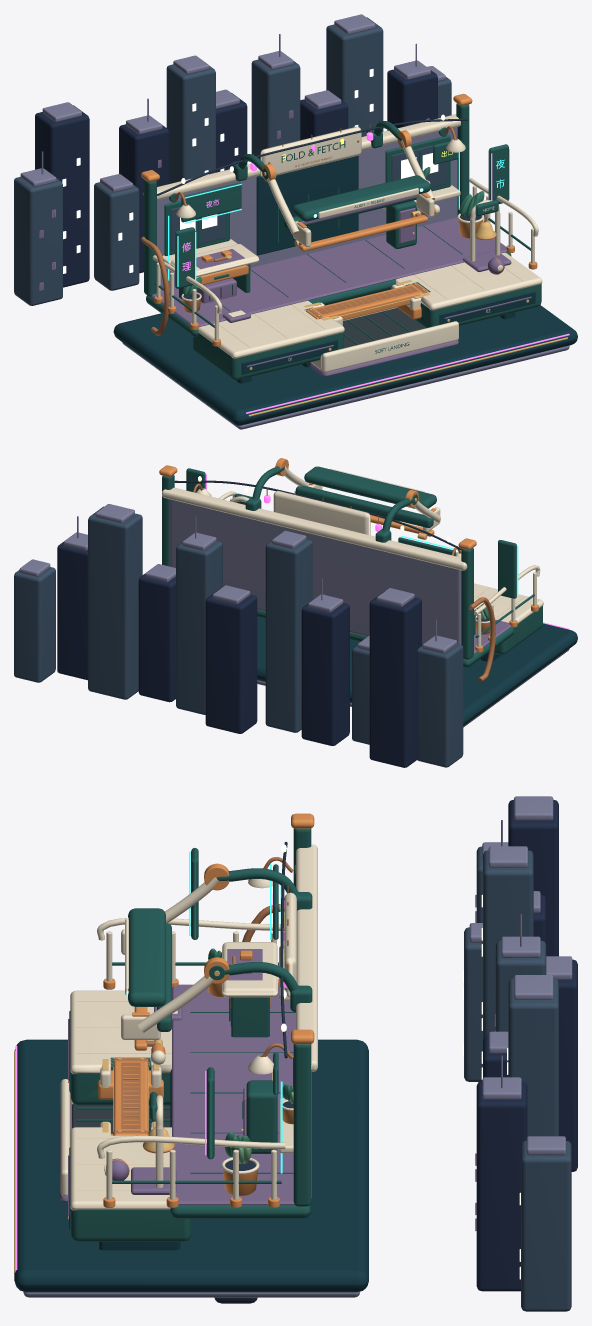
File: 04-night-market-assembled.glb
3 views of the same model, one above another, from view 1: azimuth 30°, elevation 25°; view 2: azimuth 150°, elevation 25°; view 3: azimuth 270°, elevation 25° (orthographic). The views are drawn at different scales.
Parts seen in each view (by area): view 1: distant_city_mesh, rooftop_base_mesh, workshop_frame_mesh, floor_left_mesh, floor_right_mesh, neon_signage_mesh, recovery_tray_mesh, upper_chute_mesh, repair_bench_mesh, service_cables_mesh, roof_rails_mesh, bridge_beam_mesh (+4 smaller); view 2: distant_city_mesh, workshop_frame_mesh, rooftop_base_mesh, upper_chute_mesh, neon_signage_mesh, floor_left_mesh, service_cables_mesh, roof_rails_mesh; view 3: rooftop_base_mesh, distant_city_mesh, workshop_frame_mesh, floor_right_mesh, upper_chute_mesh, floor_left_mesh, roof_rails_mesh, repair_bench_mesh, neon_signage_mesh, service_cables_mesh, bridge_beam_mesh, recovery_tray_mesh (+4 smaller).
Part boxes in pixels (box(x1,y1,x2,y2)): distant_city_mesh: box(14, 14, 451, 305); rooftop_base_mesh: box(113, 217, 577, 429); workshop_frame_mesh: box(141, 93, 472, 296); floor_left_mesh: box(193, 300, 344, 383); floor_right_mesh: box(396, 252, 542, 328); neon_signage_mesh: box(168, 124, 569, 413); recovery_tray_mesh: box(310, 307, 458, 376); upper_chute_mesh: box(262, 130, 434, 247); repair_bench_mesh: box(170, 244, 258, 303); service_cables_mesh: box(141, 114, 467, 335); roof_rails_mesh: box(152, 178, 538, 346); bridge_beam_mesh: box(306, 283, 428, 320); distant_city_mesh: box(14, 504, 463, 767); workshop_frame_mesh: box(159, 465, 476, 659); rooftop_base_mesh: box(257, 610, 577, 727); upper_chute_mesh: box(275, 458, 440, 531); neon_signage_mesh: box(186, 468, 569, 629); floor_left_mesh: box(474, 583, 543, 661); service_cables_mesh: box(174, 476, 495, 682); roof_rails_mesh: box(219, 491, 540, 652); rooftop_base_mesh: box(14, 984, 368, 1303); distant_city_mesh: box(462, 796, 577, 1311); workshop_frame_mesh: box(217, 813, 317, 1206); floor_right_mesh: box(68, 1127, 190, 1250); upper_chute_mesh: box(121, 863, 229, 1039); floor_left_mesh: box(68, 990, 171, 1105); roof_rails_mesh: box(97, 918, 285, 1207); repair_bench_mesh: box(222, 942, 277, 1037); neon_signage_mesh: box(15, 848, 288, 1270); service_cables_mesh: box(241, 842, 287, 1153); bridge_beam_mesh: box(113, 1058, 148, 1135); recovery_tray_mesh: box(59, 1079, 170, 1201).
Bounding box in the file's own units: 11.31 × 5.6 × 8.91.
